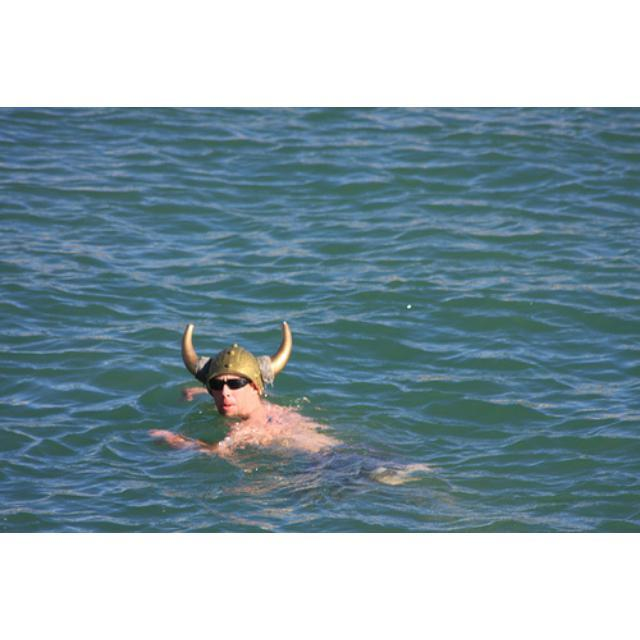human: (166, 350, 413, 484)
